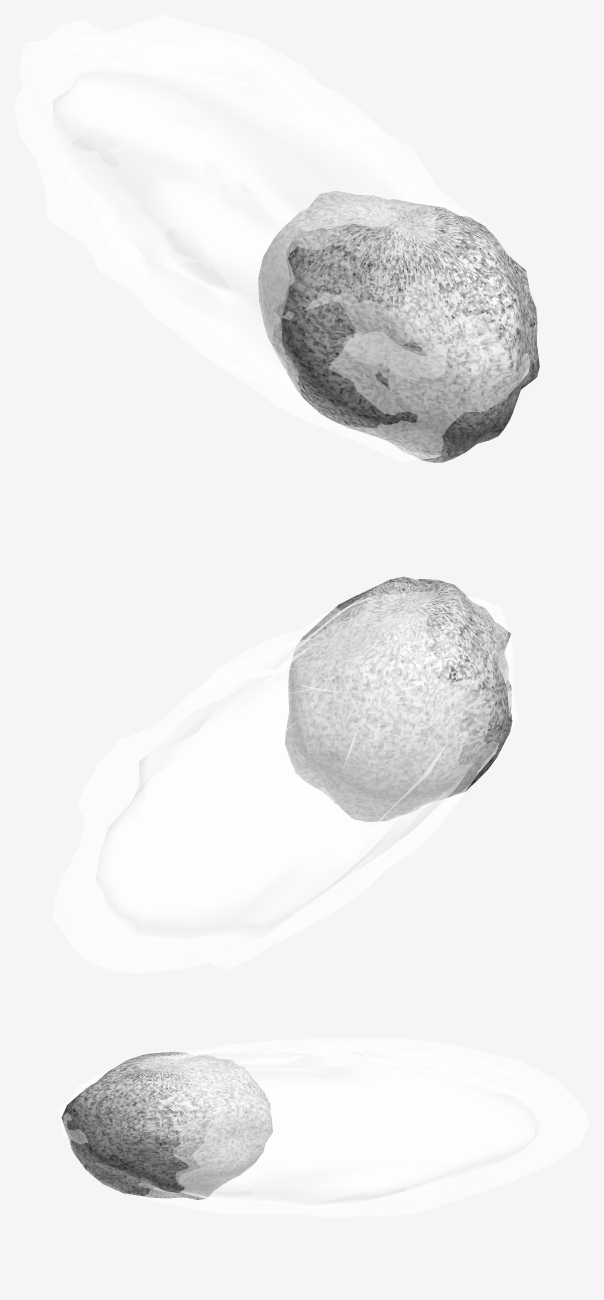
The model's file is halleys-comet.glb.
3 views of the same model, one above another, from view 1: azimuth 30°, elevation 25°; view 2: azimuth 150°, elevation 25°; view 3: azimuth 270°, elevation 25° (orthographic). The views are drawn at different scales.
Visible parts, largest first — view 1: Sphere.002_Material.001_0, Sphere.001_Material.003_0, Sphere_Material.002_0; view 2: Sphere.002_Material.001_0, Sphere.001_Material.003_0, Sphere_Material.002_0; view 3: Sphere.002_Material.001_0, Sphere.001_Material.003_0, Sphere_Material.002_0.
Part boxes in pixels (x1,y1,x2,y2): Sphere.002_Material.001_0: (14,14,529,461); Sphere.001_Material.003_0: (53,42,484,397); Sphere_Material.002_0: (258,191,539,462); Sphere.002_Material.001_0: (52,591,517,973); Sphere.001_Material.003_0: (96,610,510,941); Sphere_Material.002_0: (285,576,512,821); Sphere.002_Material.001_0: (59,1037,589,1217); Sphere.001_Material.003_0: (138,1042,541,1208); Sphere_Material.002_0: (61,1051,272,1199).
Size of the model in its own units: 5.05 by 4.24 by 8.91.
5 materials, 1 textured.
